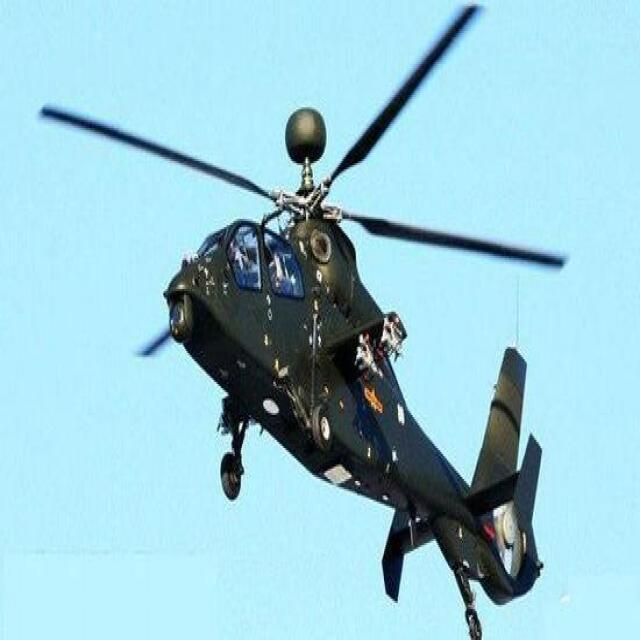MIL_HELO: (38, 27, 606, 628)
